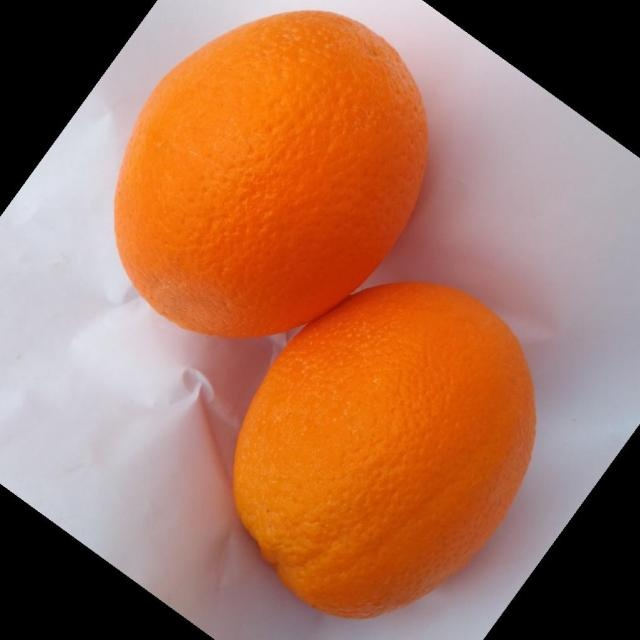agrume: (112, 9, 430, 339), (231, 279, 537, 620)
